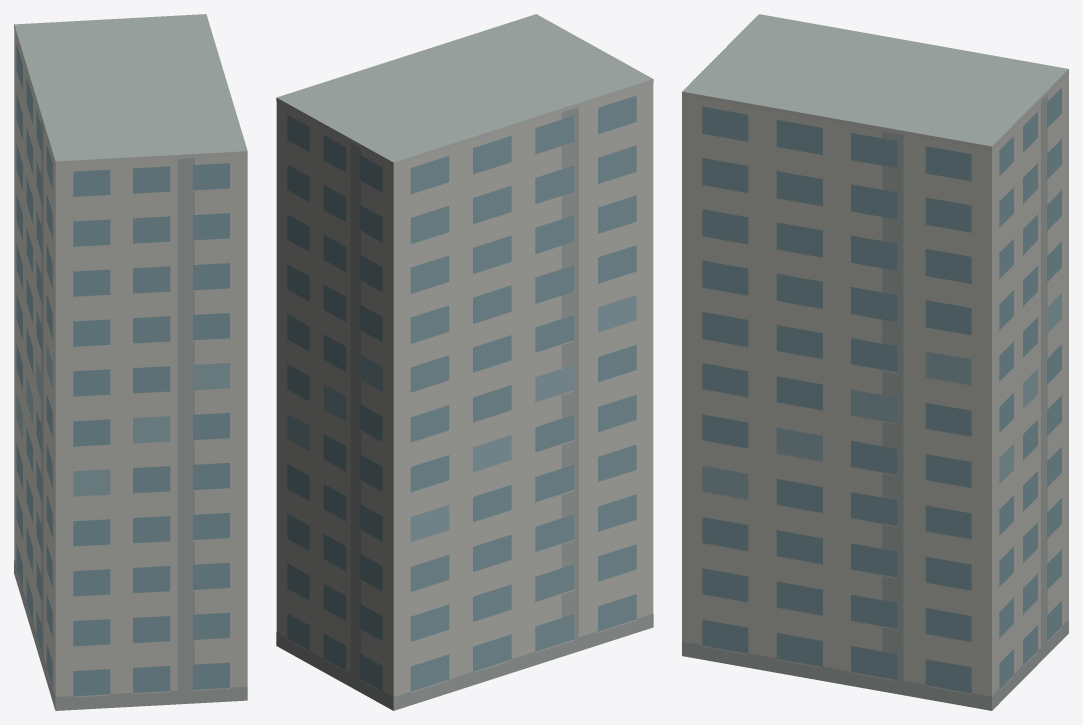
The model's file is residential-1d1a96a3-2055-422b-bf9d-69d7d2d8d0e4.glb.
3 views of the same model, side by side, from view 1: azimuth 30°, elevation 25°; view 2: azimuth 150°, elevation 25°; view 3: azimuth 270°, elevation 25° (orthographic). The views are drawn at different scales.
Visible parts, largest first — view 1: residential-1d1a96a3-2055-422b-bf9d-69d7d2d8d0e4.tmp; view 2: residential-1d1a96a3-2055-422b-bf9d-69d7d2d8d0e4.tmp; view 3: residential-1d1a96a3-2055-422b-bf9d-69d7d2d8d0e4.tmp.
Boxes of the visible parts, bbox=[...] form: residential-1d1a96a3-2055-422b-bf9d-69d7d2d8d0e4.tmp: bbox=[14, 14, 247, 710]; residential-1d1a96a3-2055-422b-bf9d-69d7d2d8d0e4.tmp: bbox=[276, 14, 653, 710]; residential-1d1a96a3-2055-422b-bf9d-69d7d2d8d0e4.tmp: bbox=[682, 14, 1068, 710].
Bounding box in the file's own units: 16.62 × 33 × 20.5.
